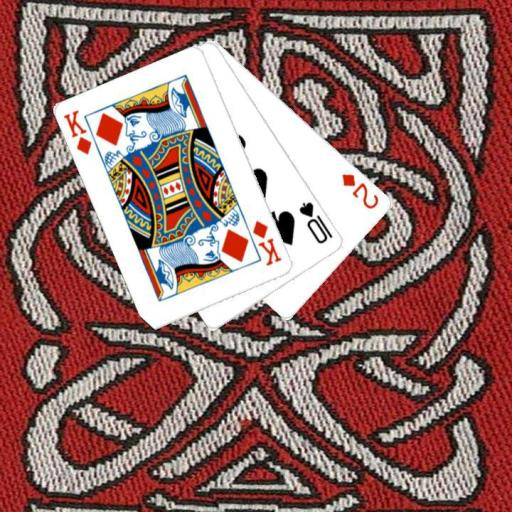10S: (296, 198, 335, 246)
2D: (339, 170, 381, 211)
KD: (250, 217, 284, 267), (60, 108, 94, 157)
